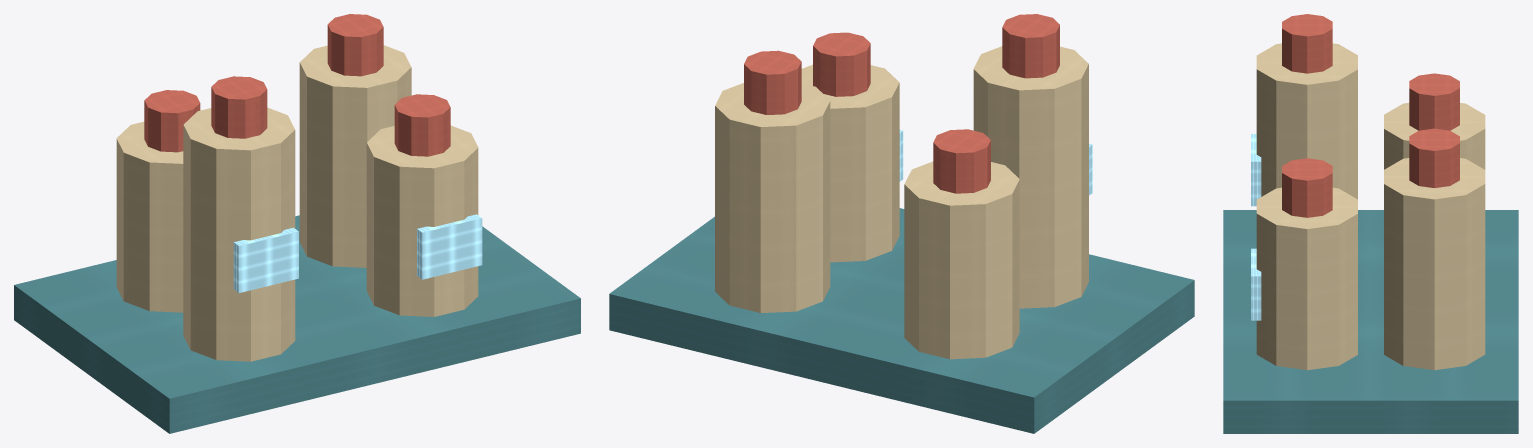
Rendered from atlas100-s073-a04.lod1.glb.
3 renders of one model, left to right at view 1: azimuth 30°, elevation 25°; view 2: azimuth 150°, elevation 25°; view 3: azimuth 270°, elevation 25°, orthographic. The views are drawn at different scales.
Visible parts, largest first — view 1: atlas100-s073-a04:part-000, atlas100-s073-a04:part-007, atlas100-s073-a04:part-004, atlas100-s073-a04:part-010, atlas100-s073-a04:part-001, atlas100-s073-a04:part-012, atlas100-s073-a04:part-009, atlas100-s073-a04:part-011, atlas100-s073-a04:part-005, atlas100-s073-a04:part-008, atlas100-s073-a04:part-002; view 2: atlas100-s073-a04:part-000, atlas100-s073-a04:part-004, atlas100-s073-a04:part-007, atlas100-s073-a04:part-001, atlas100-s073-a04:part-010, atlas100-s073-a04:part-002, atlas100-s073-a04:part-008, atlas100-s073-a04:part-005, atlas100-s073-a04:part-011; view 3: atlas100-s073-a04:part-000, atlas100-s073-a04:part-004, atlas100-s073-a04:part-010, atlas100-s073-a04:part-007, atlas100-s073-a04:part-001, atlas100-s073-a04:part-005, atlas100-s073-a04:part-011, atlas100-s073-a04:part-008, atlas100-s073-a04:part-002, atlas100-s073-a04:part-012, atlas100-s073-a04:part-009.
Part boxes in pixels (x1,y1,x2,y2): atlas100-s073-a04:part-000: (14,215,580,433); atlas100-s073-a04:part-007: (183,107,295,361); atlas100-s073-a04:part-004: (299,45,411,267); atlas100-s073-a04:part-010: (366,125,478,316); atlas100-s073-a04:part-001: (116,121,183,312); atlas100-s073-a04:part-012: (417,214,482,279); atlas100-s073-a04:part-009: (233,227,298,292); atlas100-s073-a04:part-011: (394,94,450,156); atlas100-s073-a04:part-005: (327,14,383,76); atlas100-s073-a04:part-008: (211,76,267,138); atlas100-s073-a04:part-002: (144,90,200,152); atlas100-s073-a04:part-000: (609,208,1194,433); atlas100-s073-a04:part-004: (715,83,830,312); atlas100-s073-a04:part-007: (973,46,1088,308); atlas100-s073-a04:part-001: (904,161,1019,359); atlas100-s073-a04:part-010: (801,64,899,262); atlas100-s073-a04:part-002: (933,129,990,193); atlas100-s073-a04:part-008: (1002,14,1059,78); atlas100-s073-a04:part-005: (744,50,801,114); atlas100-s073-a04:part-011: (813,32,870,96); atlas100-s073-a04:part-000: (1223,210,1518,433); atlas100-s073-a04:part-004: (1384,158,1485,370); atlas100-s073-a04:part-010: (1256,187,1357,370); atlas100-s073-a04:part-007: (1256,43,1357,199); atlas100-s073-a04:part-001: (1384,103,1485,169); atlas100-s073-a04:part-005: (1409,128,1459,187); atlas100-s073-a04:part-011: (1282,158,1332,217); atlas100-s073-a04:part-008: (1282,14,1332,73); atlas100-s073-a04:part-002: (1409,73,1459,130); atlas100-s073-a04:part-012: (1251,248,1261,320); atlas100-s073-a04:part-009: (1251,134,1261,206).
Size of the model in its own units: 1.18 by 0.7804 by 0.7697.
Materials: 4 (4 with a texture image).
